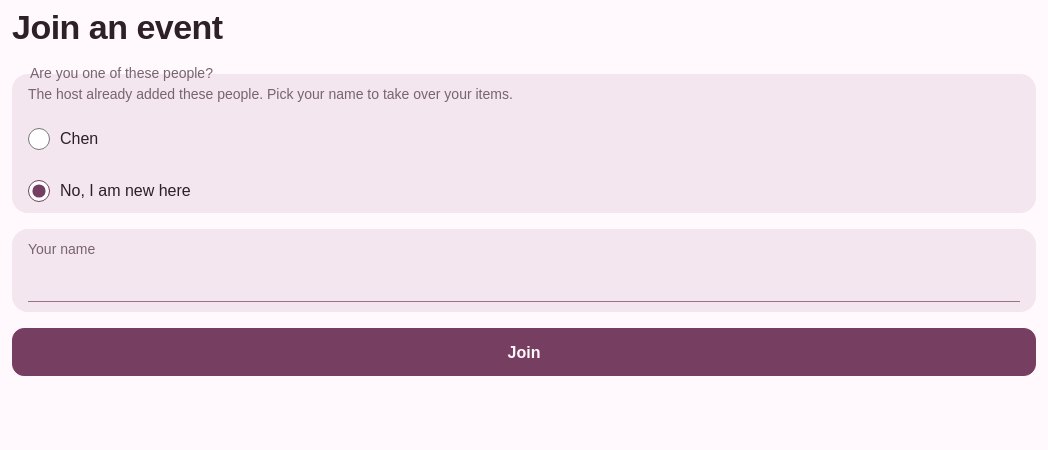
Test: JoinEventPage › explains already_member
Click the radio button labelled "Chen" at (39, 139), box [28,128,50,150]
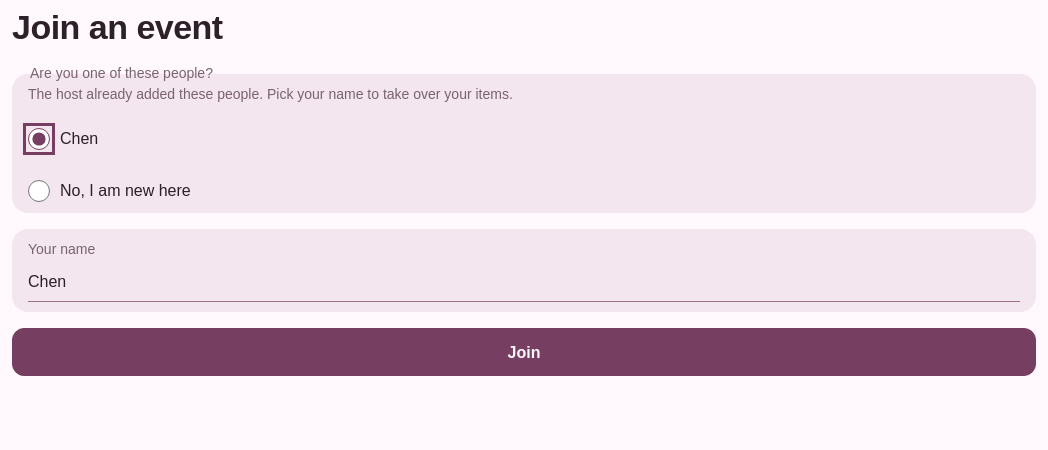
Click the button "Join" at (524, 352), box [12,328,1036,376]
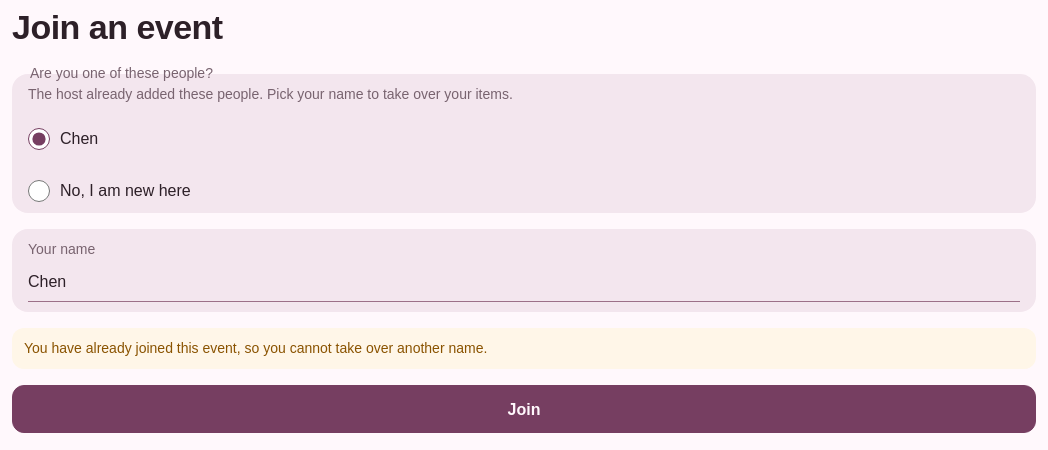
Expected: the message shows "You have already joined this event", [24,340,487,356]
